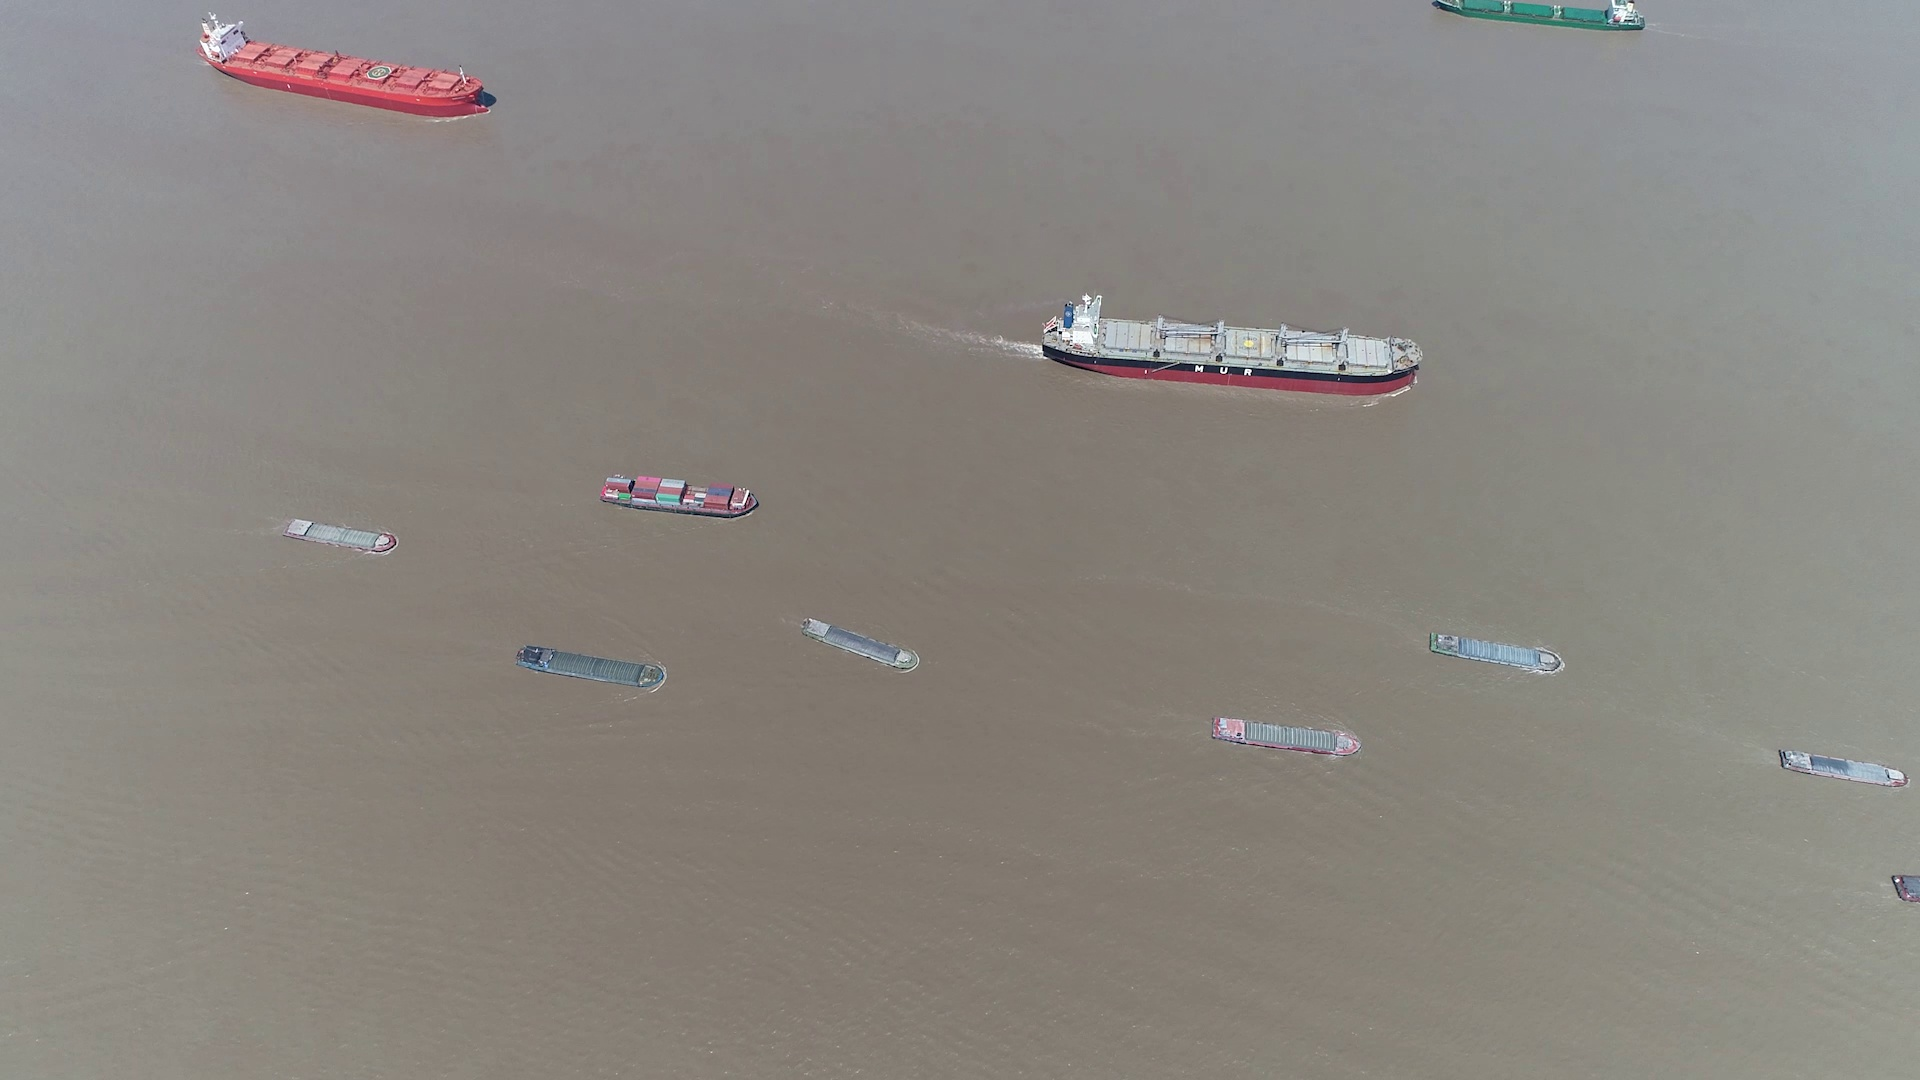ship: (1047, 295, 1422, 396), (198, 15, 492, 117), (1433, 0, 1647, 33), (804, 616, 920, 674), (601, 473, 758, 516), (517, 646, 669, 690), (1211, 716, 1360, 757), (1429, 632, 1565, 675), (1776, 746, 1907, 789), (282, 517, 397, 554), (1892, 874, 1919, 905)
